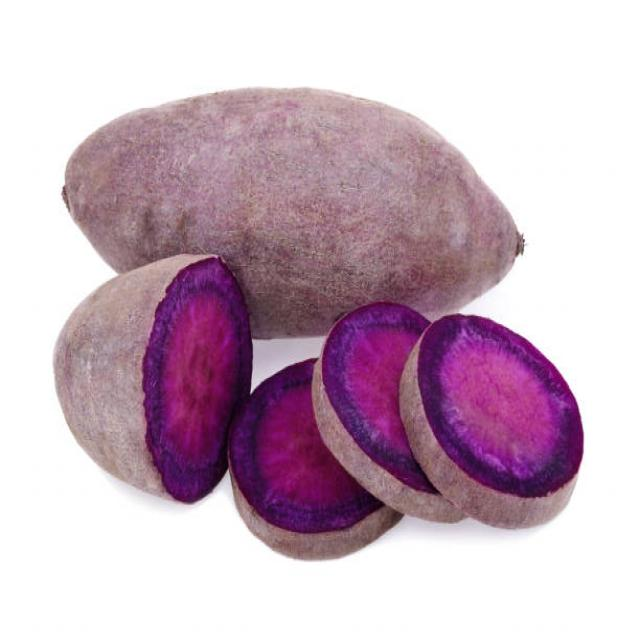Sweet Potato: (65, 85, 556, 262), (50, 254, 227, 503), (402, 307, 586, 530)
